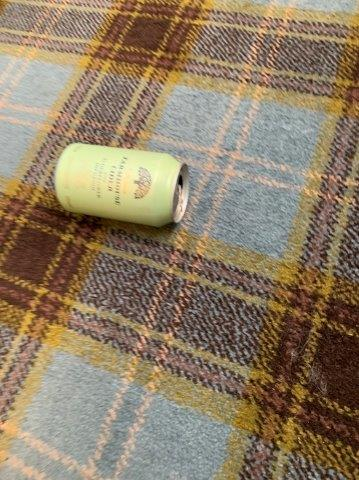kaleng: (56, 144, 188, 227)
